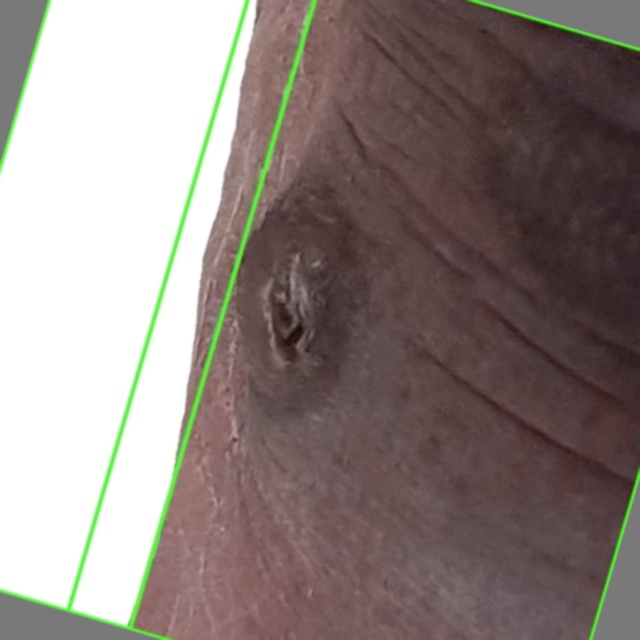Eczema: (68, 0, 639, 639), (0, 0, 314, 629)
